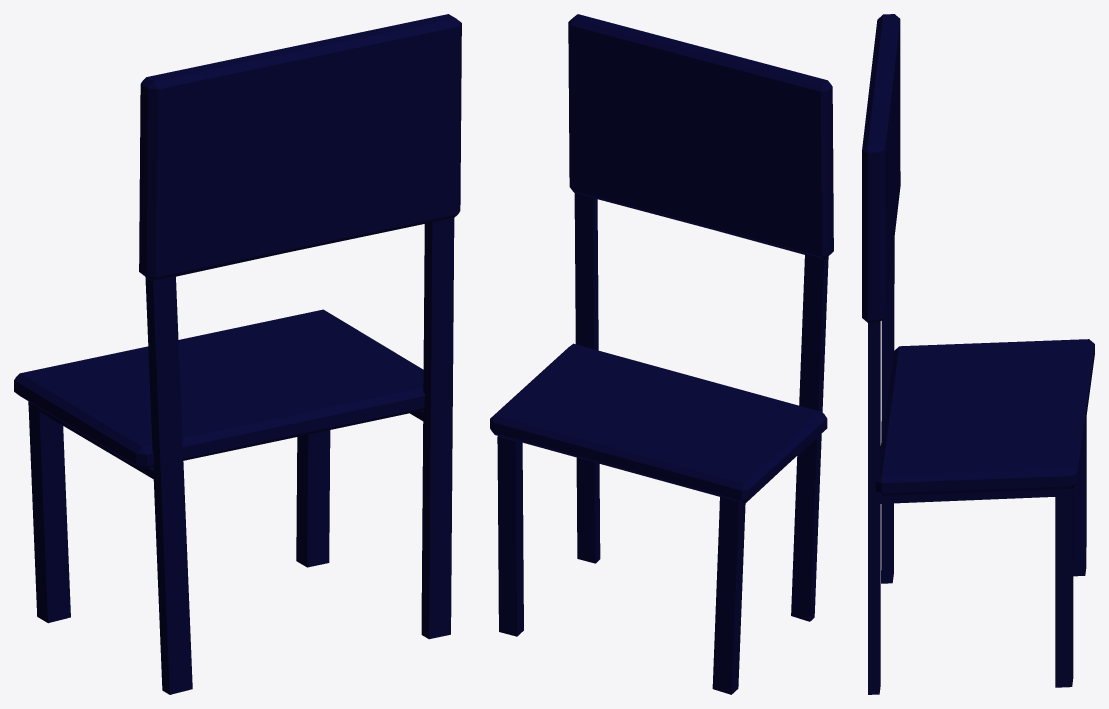
The model's file is chair 1.fbx.
3 views of the same model, side by side, from view 1: azimuth 30°, elevation 25°; view 2: azimuth 150°, elevation 25°; view 3: azimuth 270°, elevation 25° (orthographic). The views are drawn at different scales.
Parts seen in each view (by area): view 1: chair6:pCube2; view 2: chair6:pCube2; view 3: chair6:pCube2.
Boxes of the visible parts, <box> form: chair6:pCube2: <box>14,14,461,694</box>; chair6:pCube2: <box>490,14,833,694</box>; chair6:pCube2: <box>862,14,1094,694</box>.
Bounding box in the file's own units: 1.32 × 2.4 × 0.9124.
